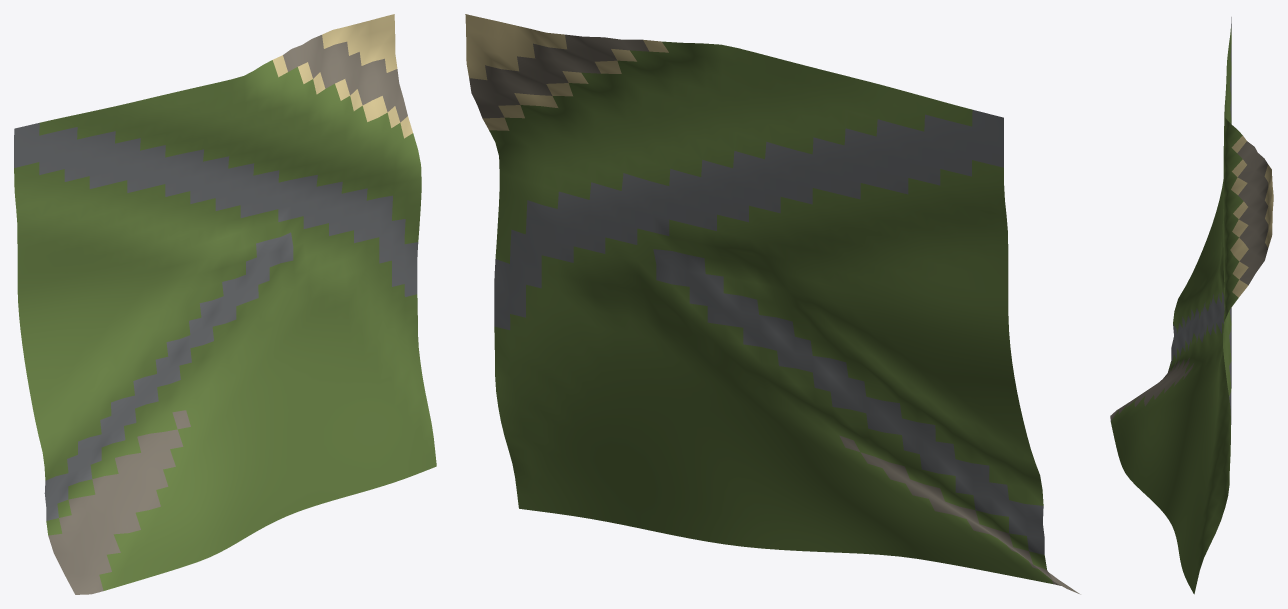
The model's file is island_terrain_25_09.obj.
3 renders of one model, left to right at view 1: azimuth 30°, elevation 25°; view 2: azimuth 150°, elevation 25°; view 3: azimuth 270°, elevation 25°, orthographic. The views are drawn at different scales.
Parts seen in each view (by area): view 1: island_terrain_25_09; view 2: island_terrain_25_09; view 3: island_terrain_25_09.
Part boxes in pixels (x1=…): island_terrain_25_09: x1=14, y1=14, x2=436, y2=594; island_terrain_25_09: x1=465, y1=14, x2=1080, y2=594; island_terrain_25_09: x1=1110, y1=17, x2=1273, y2=594.
Size of the model in its own units: 256 by 256 by 95.71.
